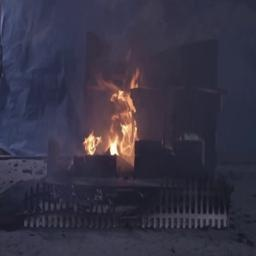fire: (81, 73, 144, 160)
